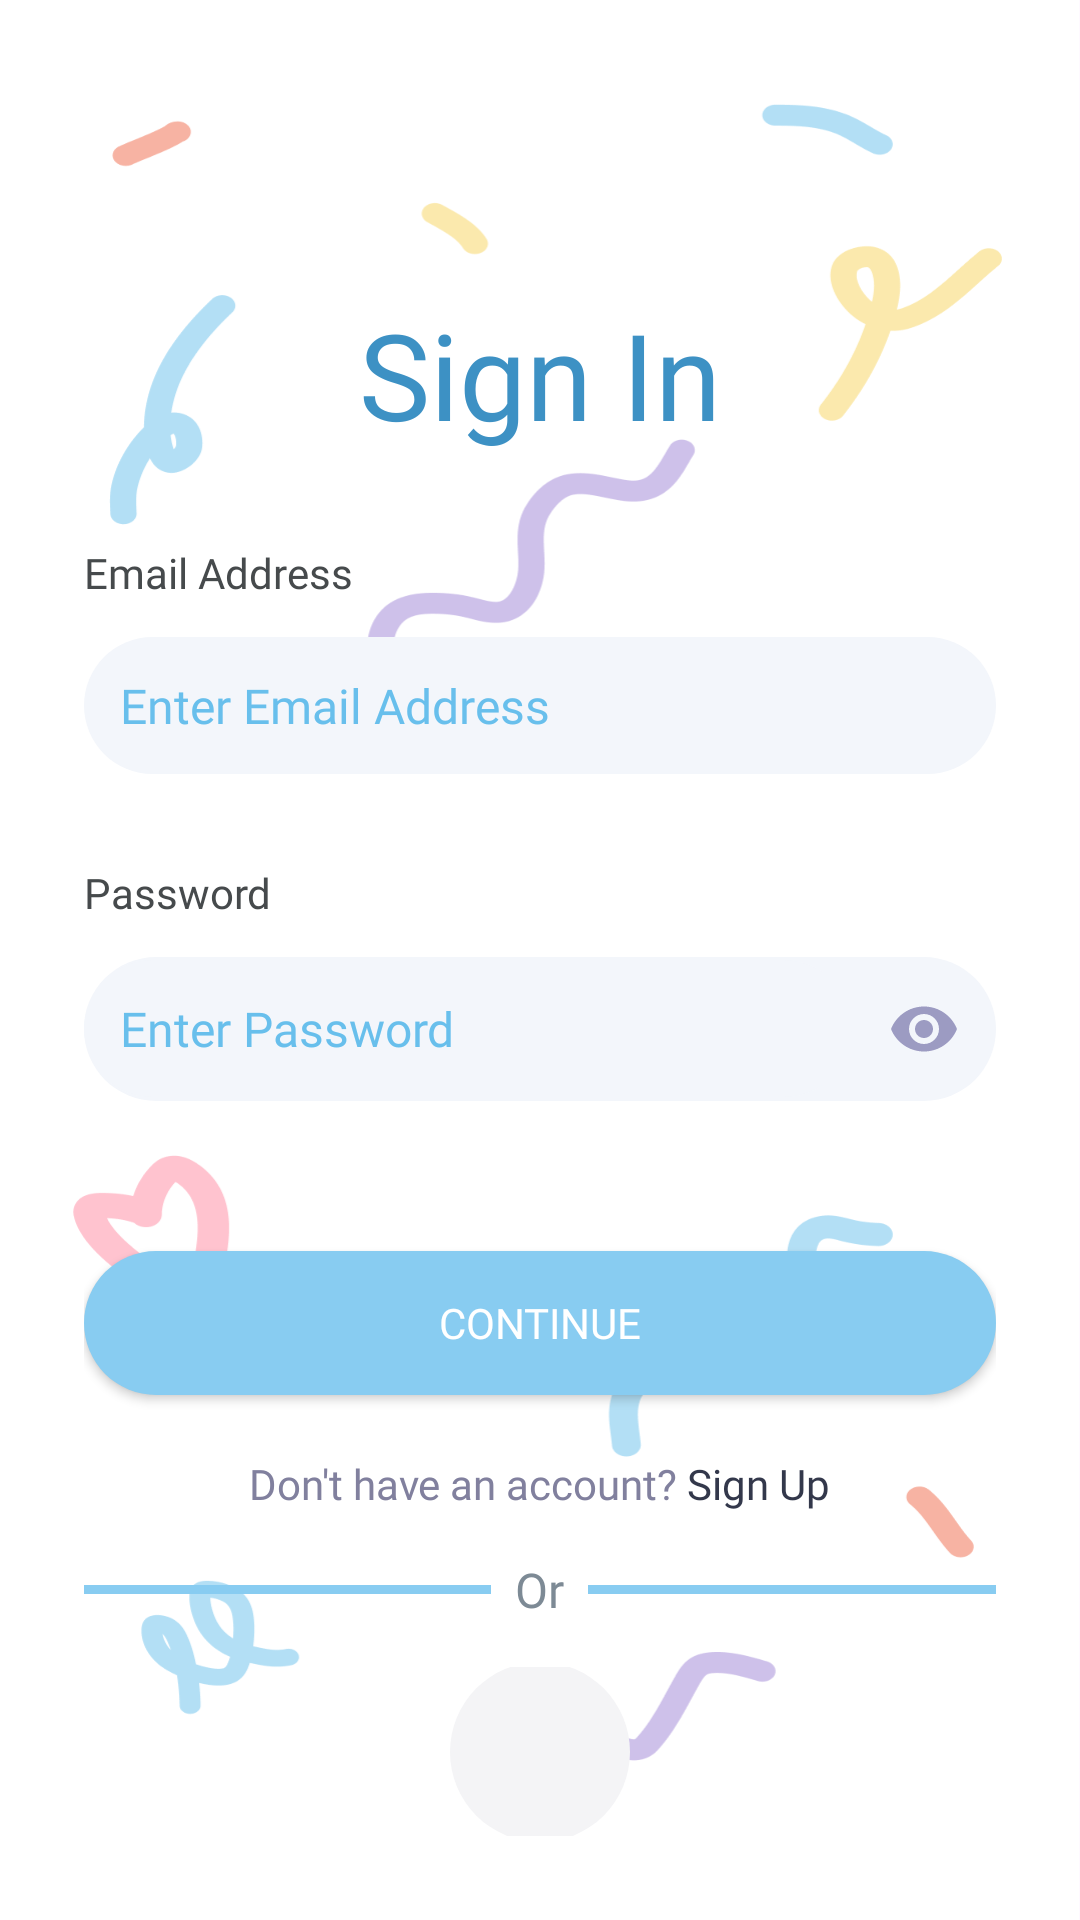

Icon bounding boxes for this 1080w x 1920h phone screenshot, format {"x1": x1, "y1": y1, "x2": x2, "y2": y2}:
eye: {"x1": 891, "y1": 1006, "x2": 957, "y2": 1052}
